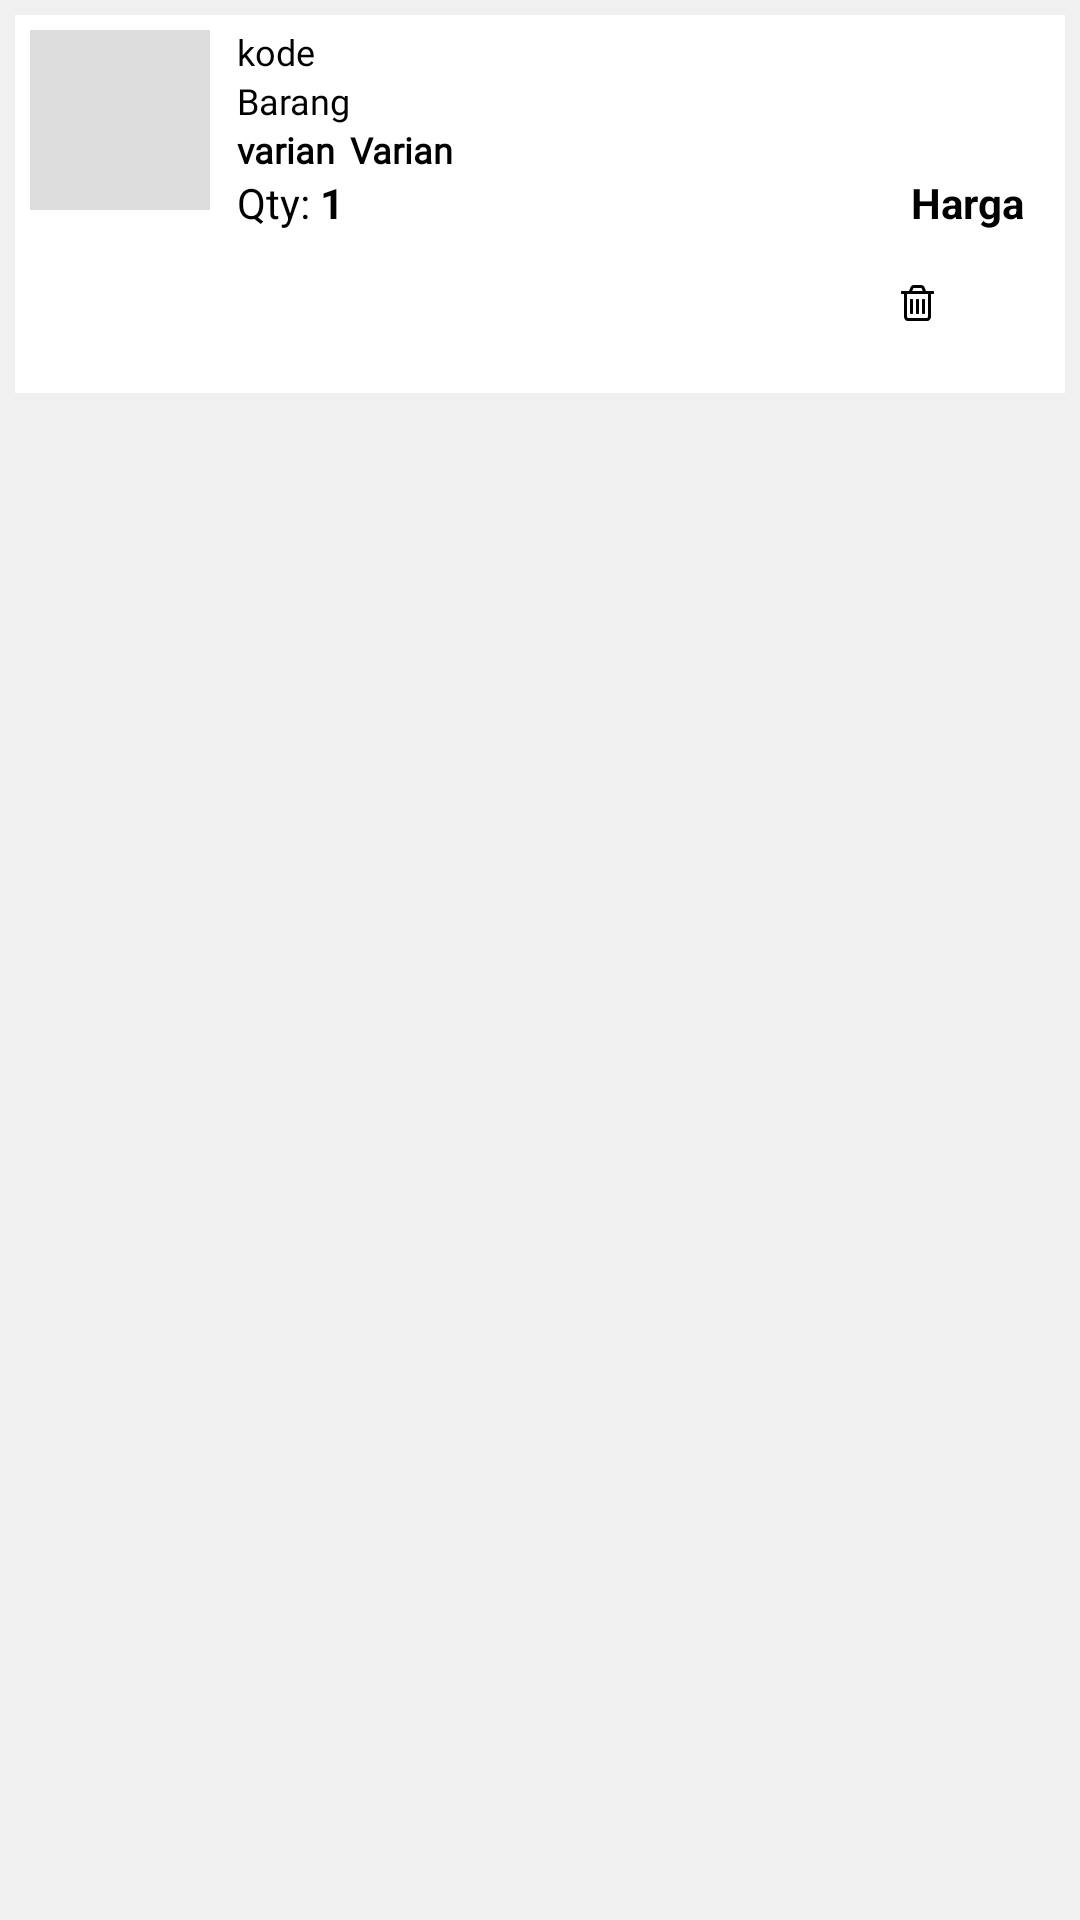

Icons on this 1080w x 1920h Android screen, each with the point to tap as [x,y]:
trash: [917,303]
